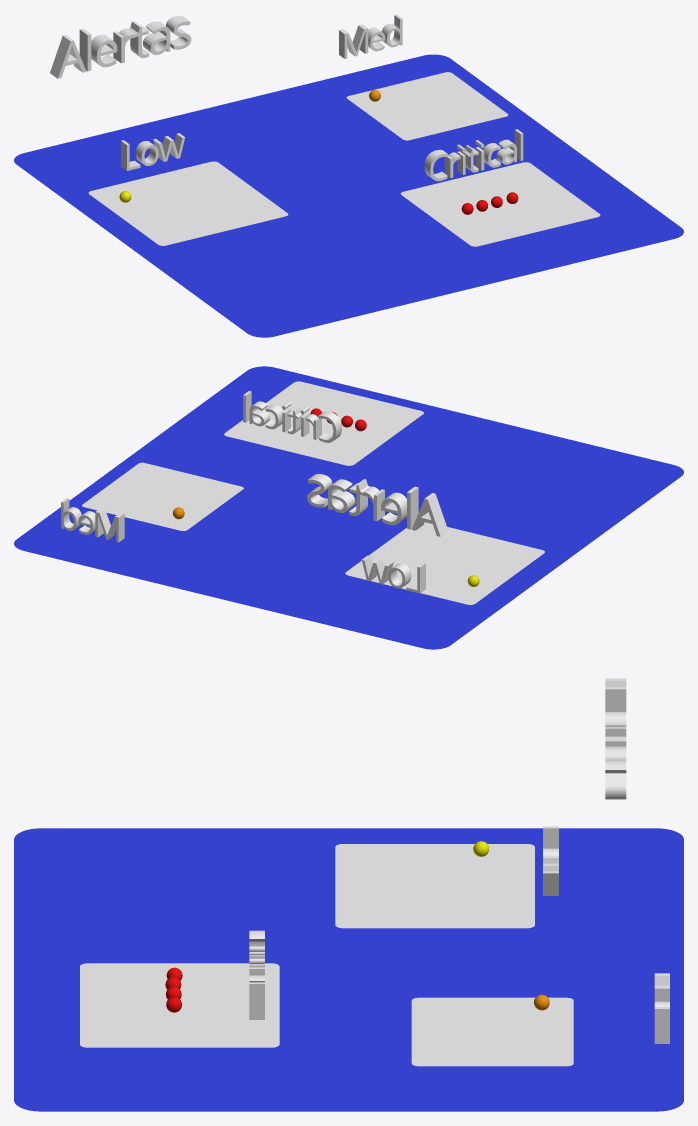
File: telecom.glb
The picture shows the model from 3 angles, top to bottom: view 1: azimuth 30°, elevation 25°; view 2: azimuth 150°, elevation 25°; view 3: azimuth 270°, elevation 25°; orthographic projection. The views are drawn at different scales.
Parts seen in each view (by area): view 1: Plane, Plane 1, Plane 2, Plane 3, 3D Text - A, 3D Text 2 - M, 3D Text - a, 3D Text - e, 3D Text 1 - w, 3D Text - s; view 2: Plane, Plane 1, Plane 2, Plane 3, 3D Text - A, 3D Text 2 - M, 3D Text - a, 3D Text - e, 3D Text 1 - w, 3D Text - s, 3D Text 2 - d, 3D Text - t (+3 smaller); view 3: Plane, Plane 1, Plane 2, Plane 3, 3D Text - s.
Boxes of the visible parts, x1,y1,x2,y2 form: Plane: [14, 54, 683, 337]; Plane 1: [88, 161, 288, 245]; Plane 2: [400, 162, 600, 246]; Plane 3: [346, 72, 508, 140]; 3D Text - A: [50, 35, 86, 78]; 3D Text 2 - M: [339, 24, 368, 58]; 3D Text - a: [143, 21, 170, 54]; 3D Text - e: [91, 34, 117, 67]; 3D Text 1 - w: [153, 133, 185, 161]; 3D Text - s: [166, 16, 191, 49]; Plane: [14, 366, 683, 649]; Plane 1: [345, 522, 544, 604]; Plane 2: [224, 381, 423, 465]; Plane 3: [82, 462, 243, 530]; 3D Text - A: [411, 493, 448, 536]; 3D Text 2 - M: [95, 508, 124, 542]; 3D Text - a: [328, 479, 355, 512]; 3D Text - e: [381, 492, 406, 525]; 3D Text 1 - w: [361, 555, 393, 584]; 3D Text - s: [307, 474, 332, 507]; 3D Text 2 - d: [61, 498, 81, 530]; 3D Text - t: [349, 479, 369, 516]; Plane: [14, 828, 683, 1111]; Plane 1: [335, 844, 534, 928]; Plane 2: [80, 963, 279, 1047]; Plane 3: [411, 997, 573, 1066]; 3D Text - s: [605, 760, 626, 799].
Size of the model in its own units: 0.3354 by 0.0968 by 0.3354.
